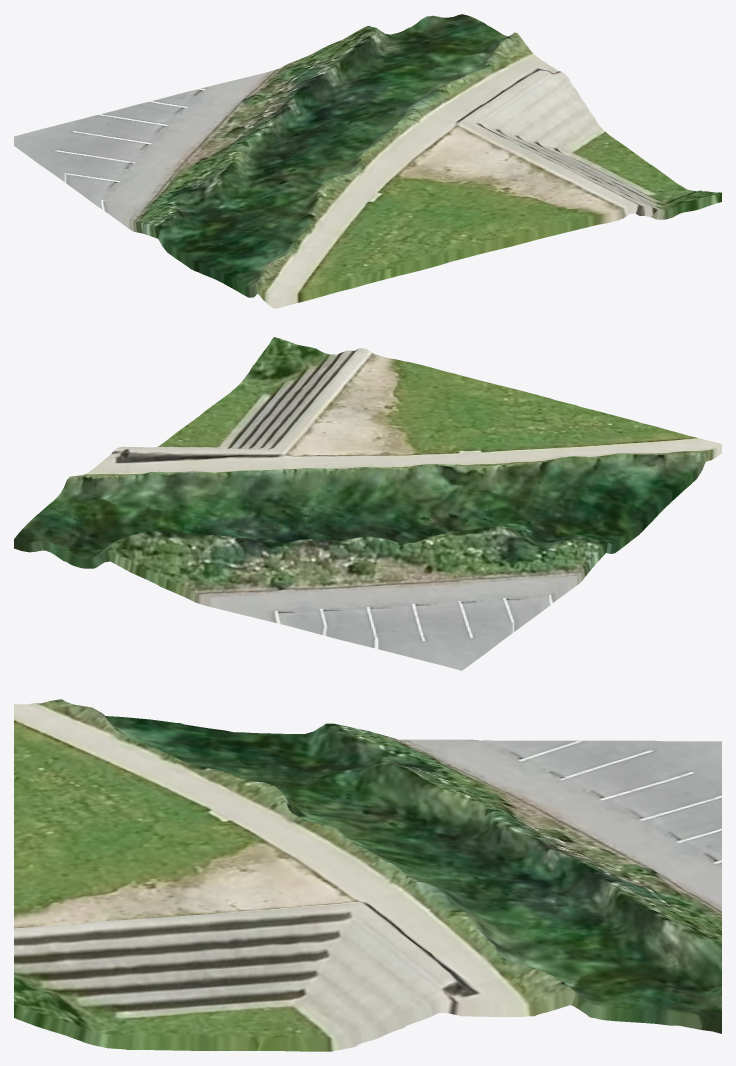
The model's file is z20-167567-405176-h0-yup-uvflip-v3-world.glb.
3 views of the same model, one above another, from view 1: azimuth 30°, elevation 25°; view 2: azimuth 150°, elevation 25°; view 3: azimuth 270°, elevation 25° (orthographic). The views are drawn at different scales.
Size of the model in its own units: 30.16 by 3.12 by 30.32.
Materials: 1 (1 with a texture image).
